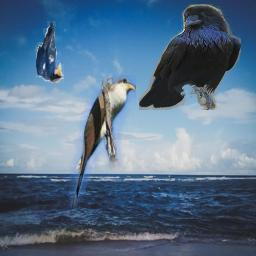Crow: (139, 4, 241, 110)
Cuckoo: (69, 75, 136, 221)
Swallow: (36, 21, 64, 83)
